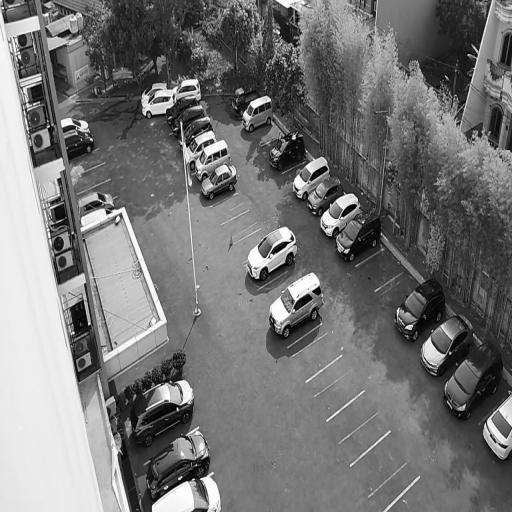Car: (439, 335, 511, 428), (128, 374, 203, 454), (143, 424, 217, 502), (261, 269, 329, 345), (415, 306, 480, 382), (388, 273, 453, 347), (242, 221, 303, 287), (330, 205, 387, 267), (477, 385, 512, 474), (151, 472, 228, 512), (316, 192, 364, 241), (288, 153, 332, 203), (265, 128, 309, 173), (302, 173, 346, 218), (191, 138, 234, 183), (199, 160, 242, 203), (175, 115, 214, 153), (239, 94, 276, 134), (184, 129, 218, 171), (169, 103, 207, 139), (163, 94, 200, 126), (63, 129, 98, 161), (229, 82, 261, 117), (141, 89, 178, 118), (77, 192, 116, 217), (80, 208, 120, 227), (172, 79, 203, 101), (140, 81, 168, 105), (60, 117, 92, 133)
Space Available: (350, 429, 420, 512), (327, 390, 391, 464), (305, 355, 365, 421), (288, 323, 342, 381), (356, 247, 403, 291), (375, 271, 418, 311), (221, 209, 261, 244), (257, 270, 295, 305), (211, 192, 249, 225), (73, 163, 111, 194), (69, 148, 105, 176), (233, 229, 265, 257), (77, 179, 117, 200), (252, 122, 284, 145), (282, 159, 310, 181)
